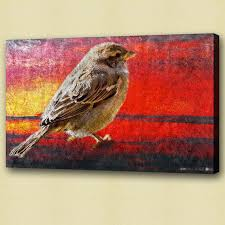hsparrow: (7, 40, 139, 160)
